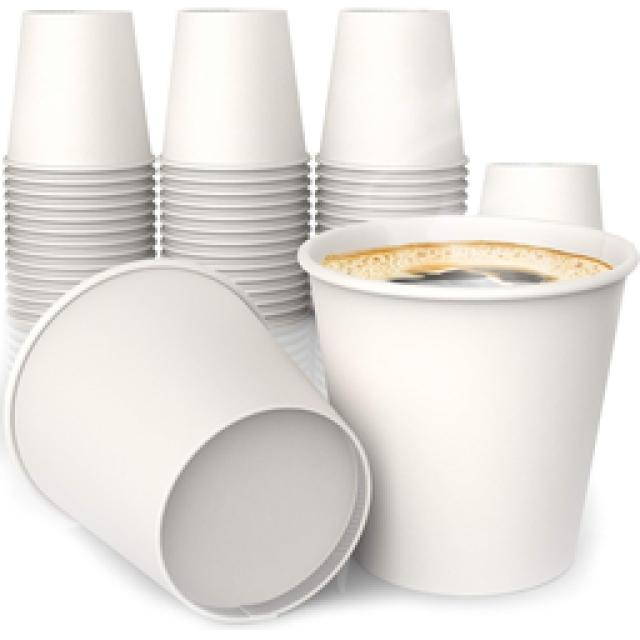paper_cups: (290, 217, 640, 598), (9, 256, 371, 622), (153, 5, 313, 210), (6, 9, 160, 217), (314, 5, 472, 205)
